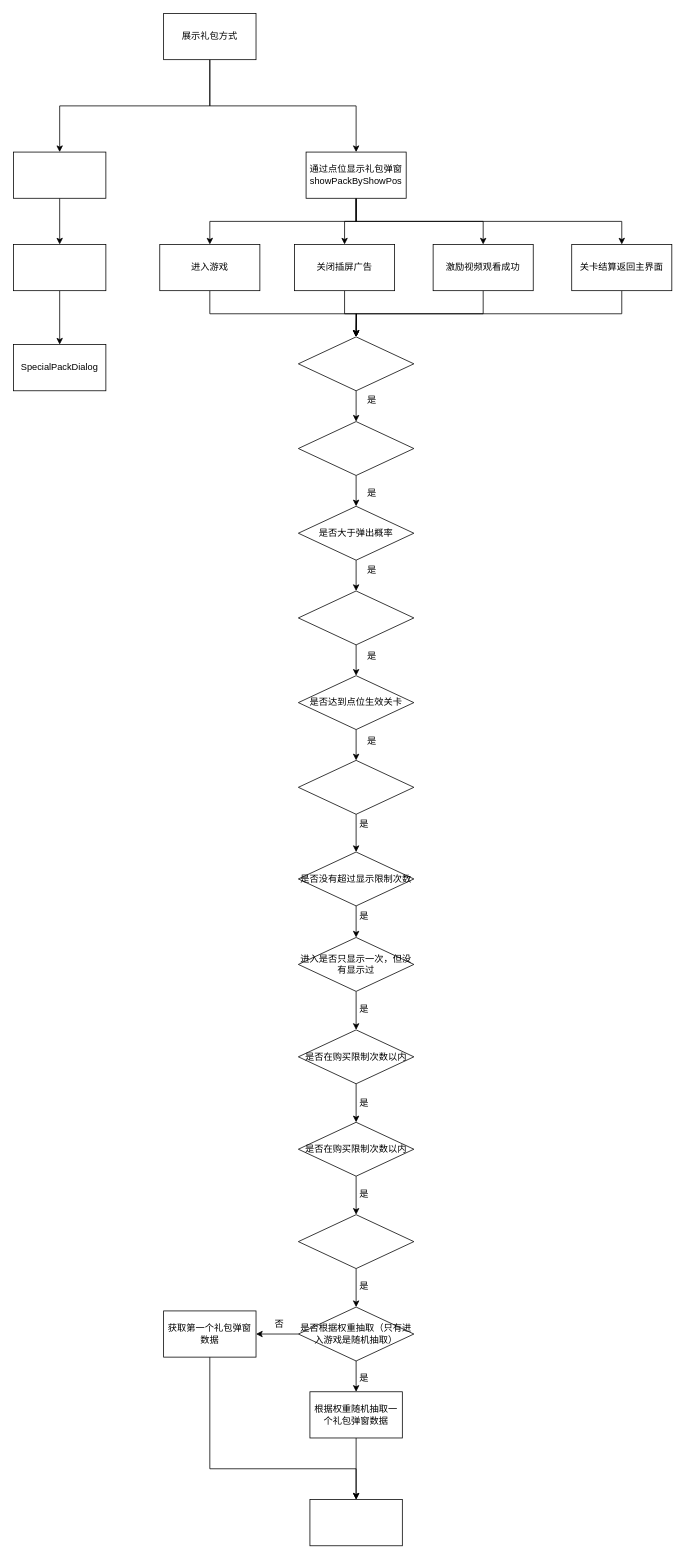
Some shapes in this 685 by 1559 pixel diagram are drawn without their labels. Each missing label, with the box of its shape:
主界面点击新手礼包、免广告礼包: (13, 244, 106, 291)
是否包含此点位: (298, 421, 414, 475)
是否有礼包数据: (298, 336, 414, 391)
是否满足弹出关卡: (298, 760, 414, 814)
是否满足解锁条件: (298, 590, 414, 645)
根据弹窗数据的弹窗名展示相应弹窗: (309, 1499, 402, 1546)
通过数据显示礼包弹窗showPackByData: (13, 151, 106, 198)
需要购买的礼包是否已经购买: (298, 1214, 414, 1269)
